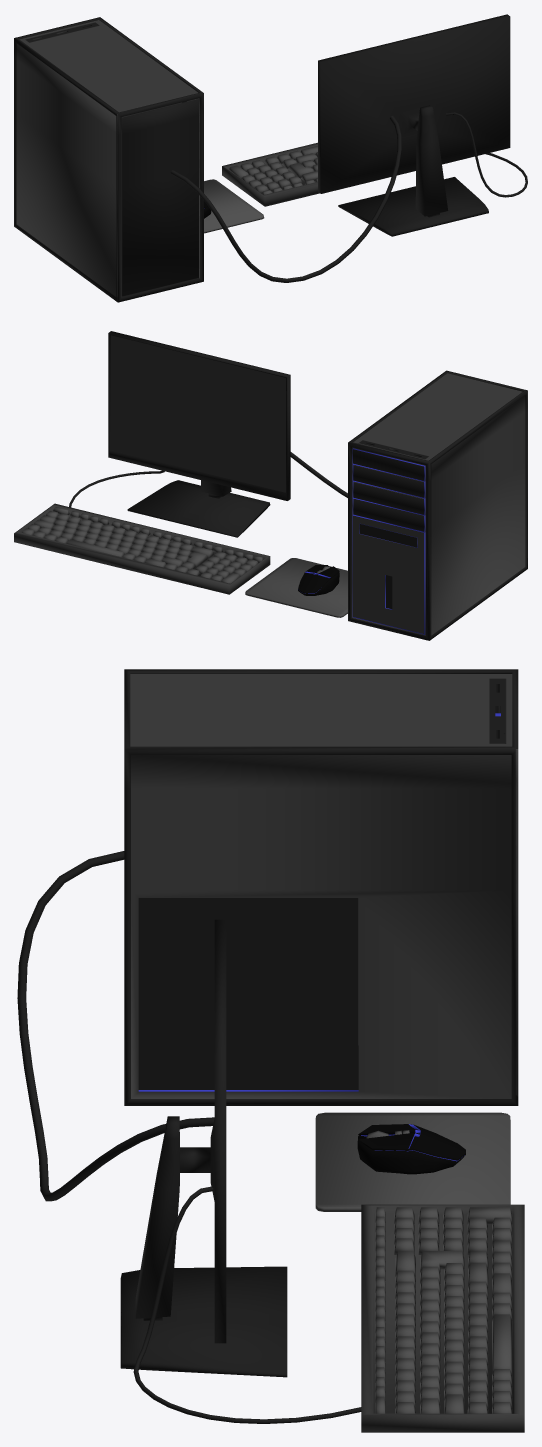
3 views of the same model, one above another, from view 1: azimuth 30°, elevation 25°; view 2: azimuth 150°, elevation 25°; view 3: azimuth 270°, elevation 25° (orthographic). The views are drawn at different scales.
Visible parts, largest first — view 1: TorrePC, Screen, Teclas, CablePC, Matt, Teclado, CableKeyboard; view 2: TorrePC, PantallaMonitor, Screen, Teclas, Teclado, Matt, Mouse; view 3: TorrePC, Screen, Teclas, Teclado, Matt, CablePC, Mouse, CableKeyboard.
Boxes of the visible parts, box(x1,y1,x2,y2) form: TorrePC: box(14, 17, 203, 302); Screen: box(318, 14, 510, 236); Teclas: box(229, 146, 317, 194); CablePC: box(170, 116, 401, 282); Matt: box(204, 179, 264, 233); Teclado: box(222, 142, 319, 206); CableKeyboard: box(446, 112, 527, 197); TorrePC: box(348, 370, 527, 640); PantallaMonitor: box(110, 335, 285, 492); Screen: box(108, 331, 290, 537); Teclas: box(22, 507, 263, 583); Teclado: box(14, 503, 270, 594); Matt: box(245, 558, 347, 617); Mouse: box(298, 565, 339, 595); TorrePC: box(124, 669, 518, 1105); Screen: box(120, 919, 287, 1377); Teclas: box(375, 1207, 512, 1413); Teclado: box(361, 1204, 524, 1432); Matt: box(315, 1112, 510, 1211); CablePC: box(17, 851, 214, 1201); Mouse: box(357, 1124, 465, 1174); CableKeyboard: box(133, 1186, 361, 1423).
Size of the model in its own units: 187 by 77.88 by 99.06.
